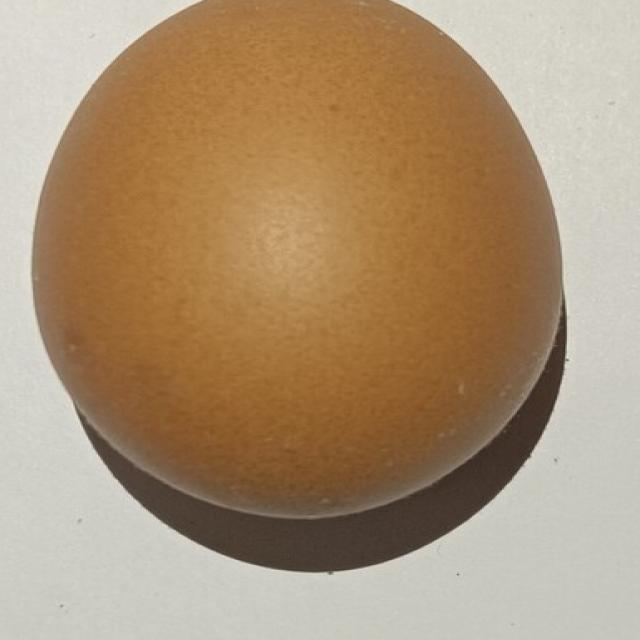fresh: (25, 0, 562, 526)
